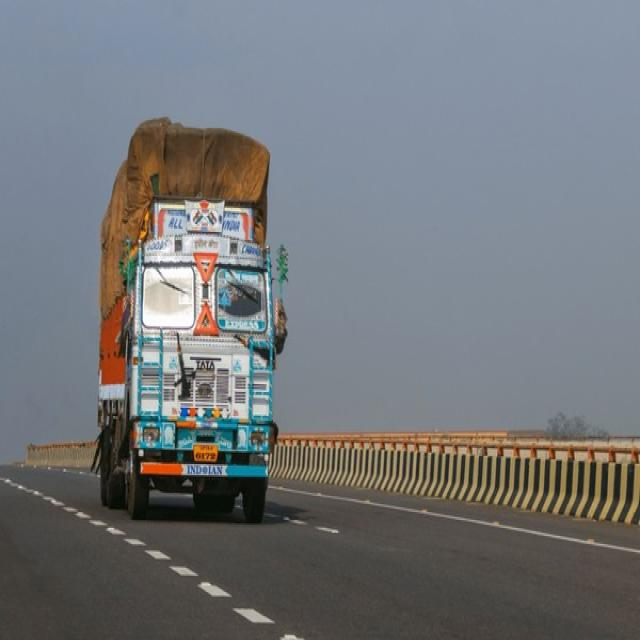truck: (101, 118, 286, 522)
